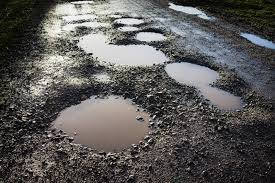pothole: (27, 87, 175, 168), (163, 58, 253, 117), (63, 26, 176, 71), (134, 27, 184, 45), (106, 14, 146, 36)
